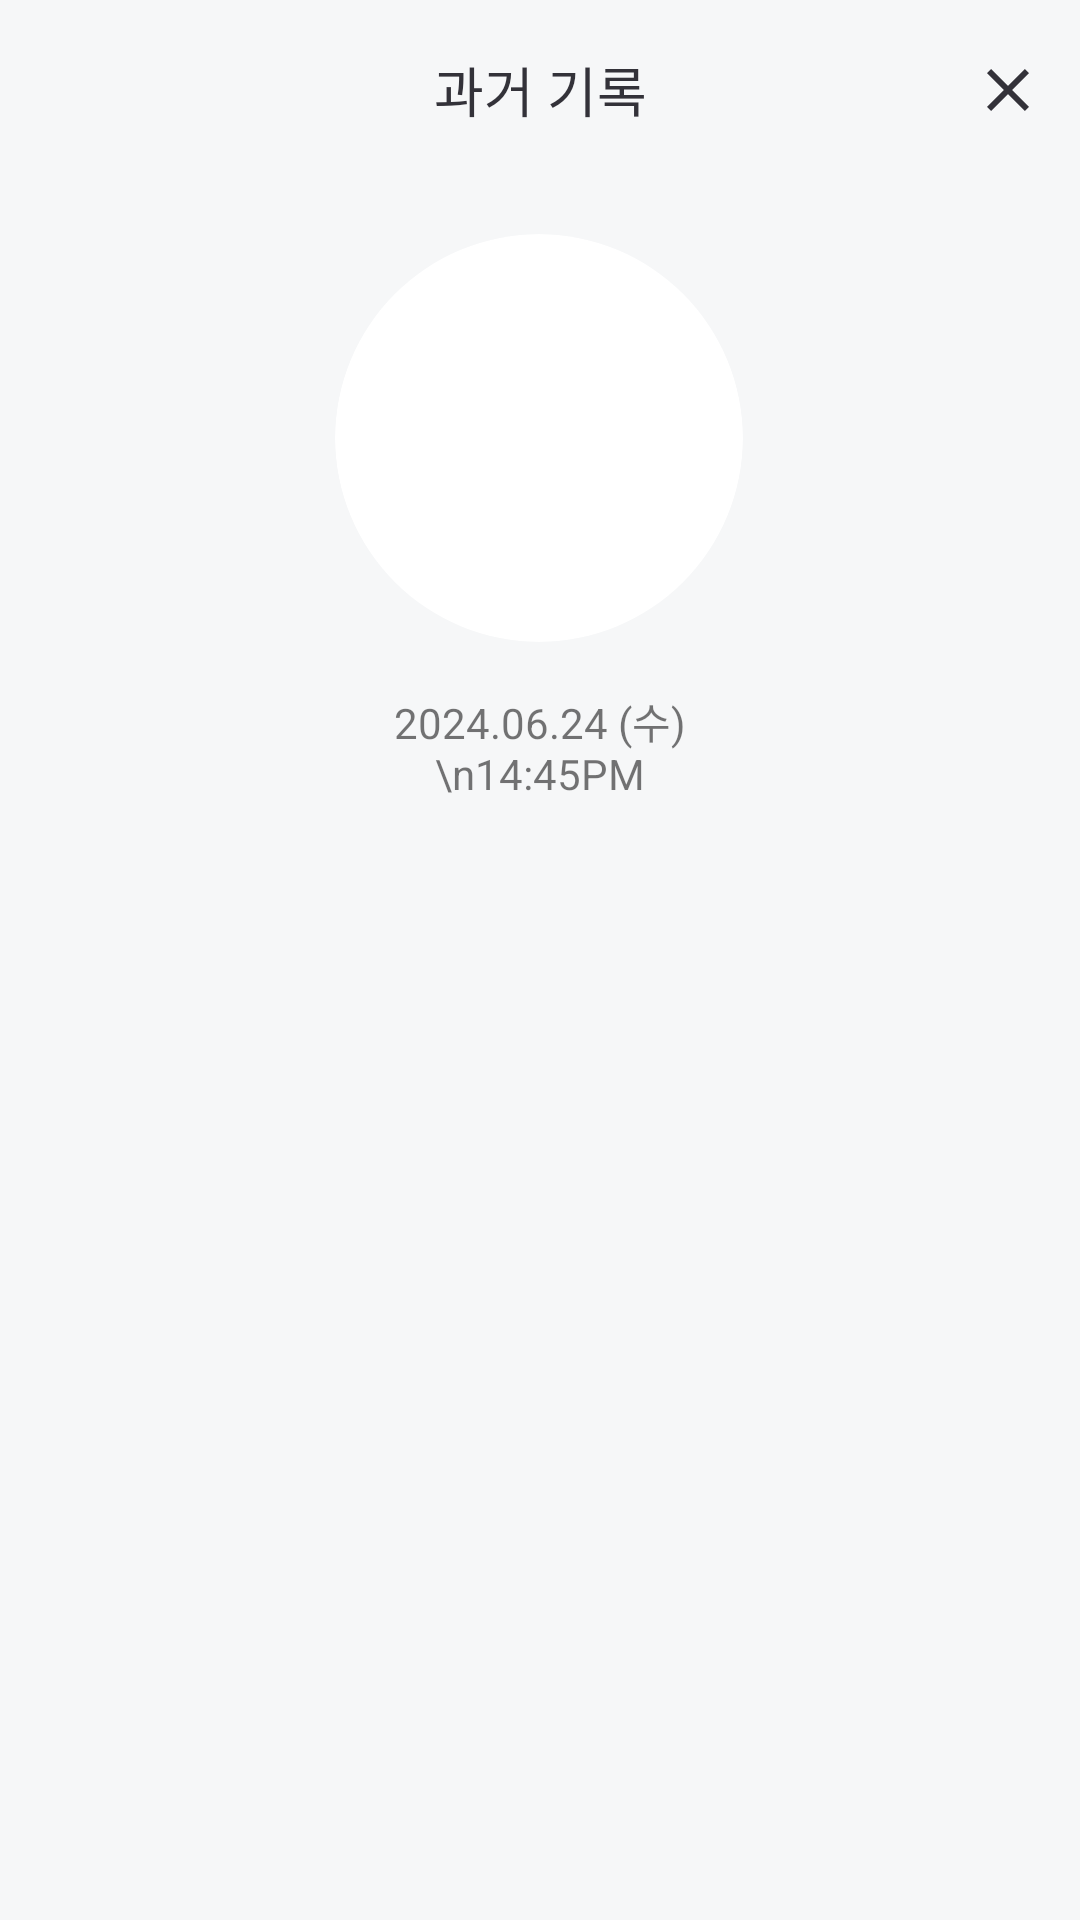

Icons on this 1080x1920 Android screen, each with its box as (x1, y1, x2, y2):
뒤로가기: (987, 69, 1029, 111)
